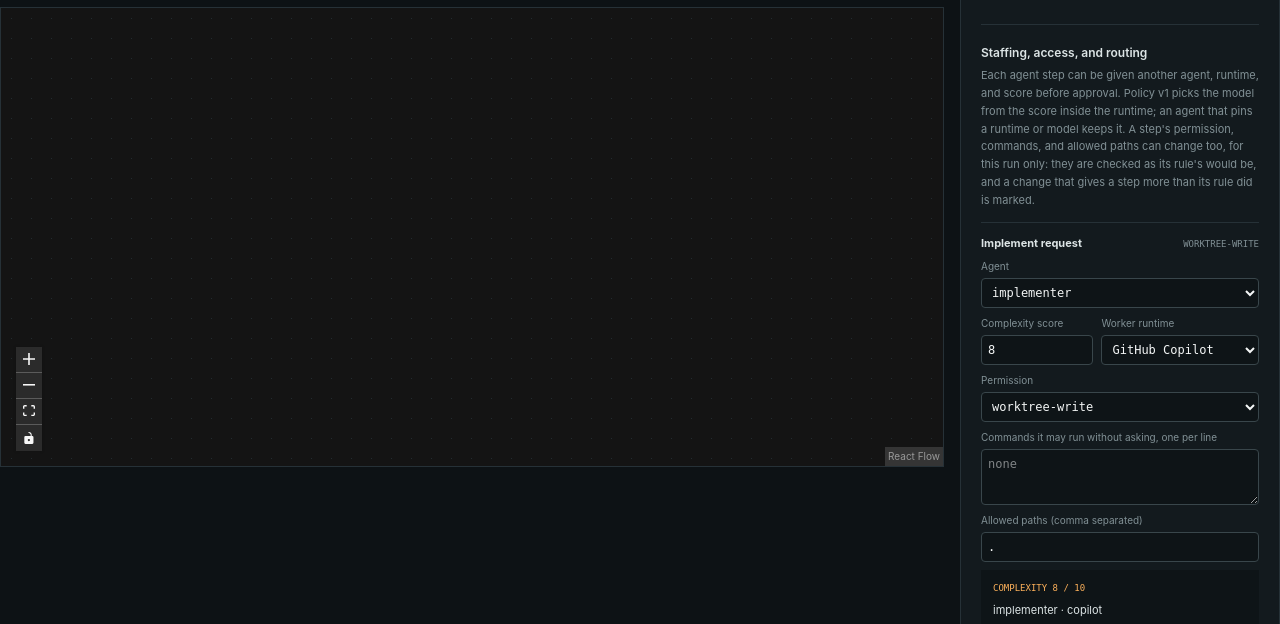
Test: WorkflowView › comes back with the steps and title Go accepted, and not a refused edit
Later steps or results of the test are not shown.
(page scrolled)
Replace the text in the number field named "Complexity score for Implement request" with "3": (1037, 350) [981,335,1094,365]
(page scrolled)
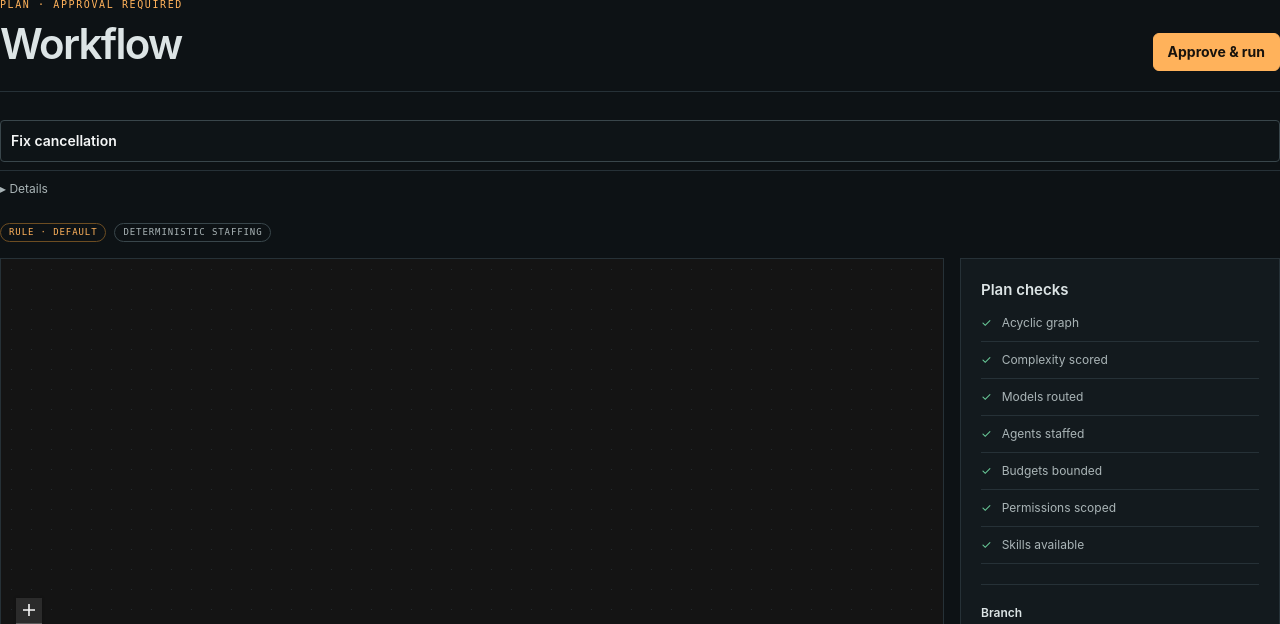
Replace the text in the field named "Task title" with "Stop the worker": (640, 140) [0,120,1279,162]
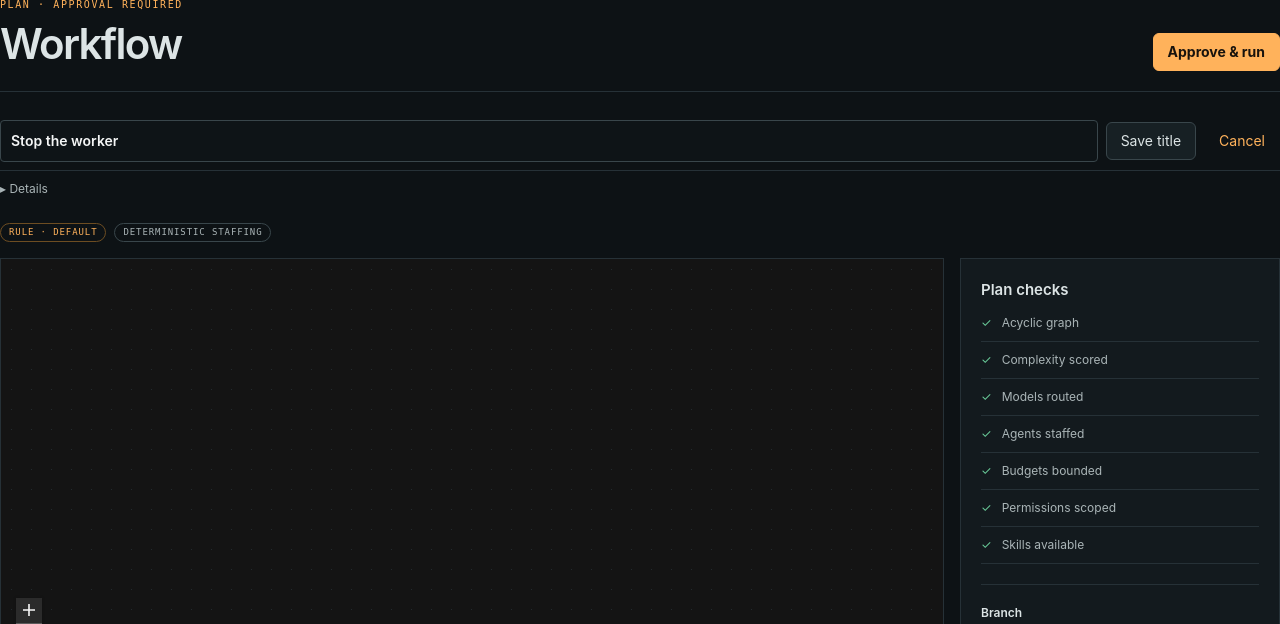
Click the button "Save title": (1151, 140) [1106,122,1196,160]
(page scrolled)
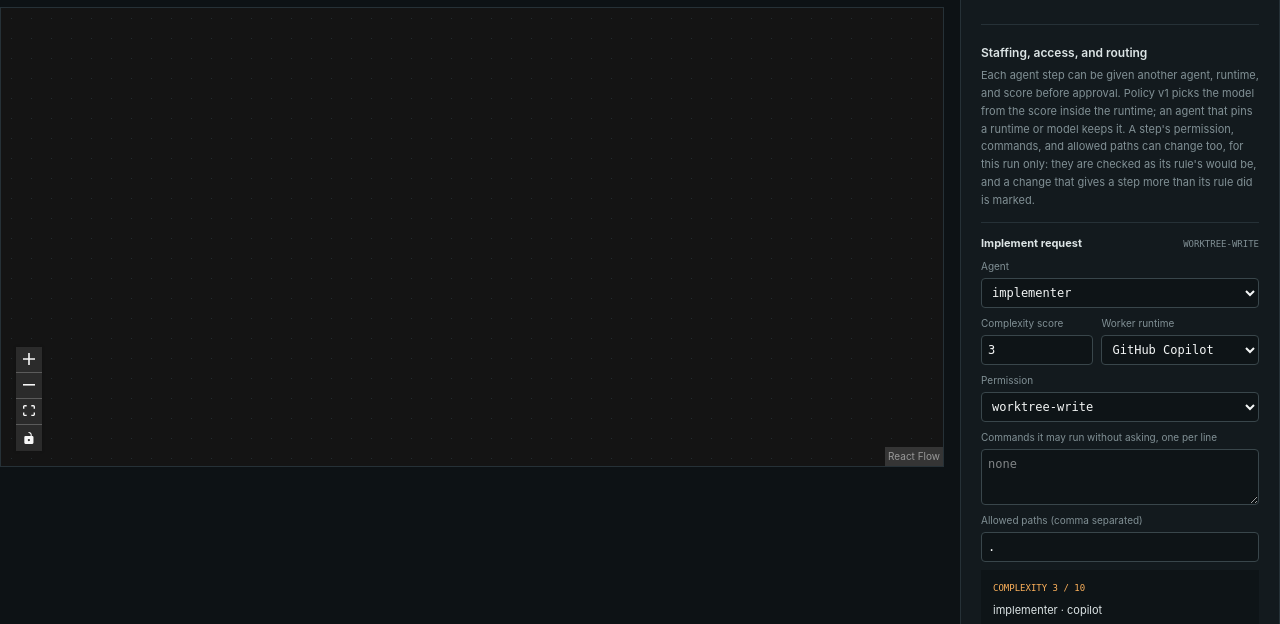
Replace the text in the number field named "Complexity score for Implement request" with "5": (1037, 350) [981,335,1094,365]
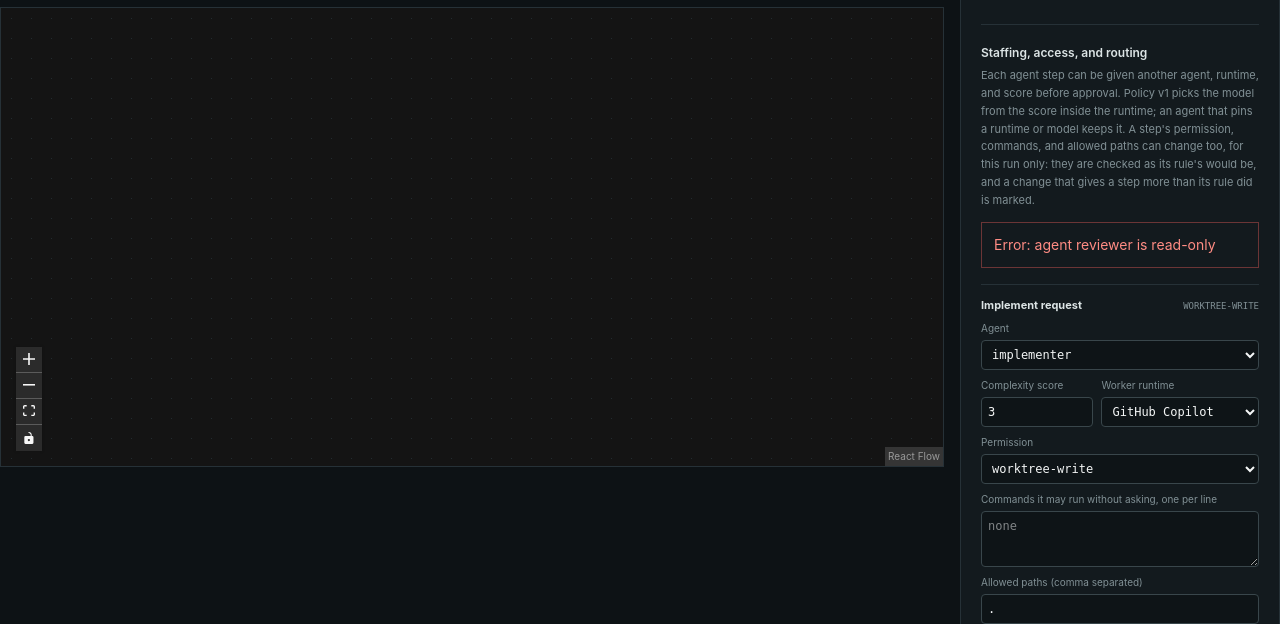
Check: the text "Error: agent reviewer is read-only" is shown, box [981,222,1259,268]
